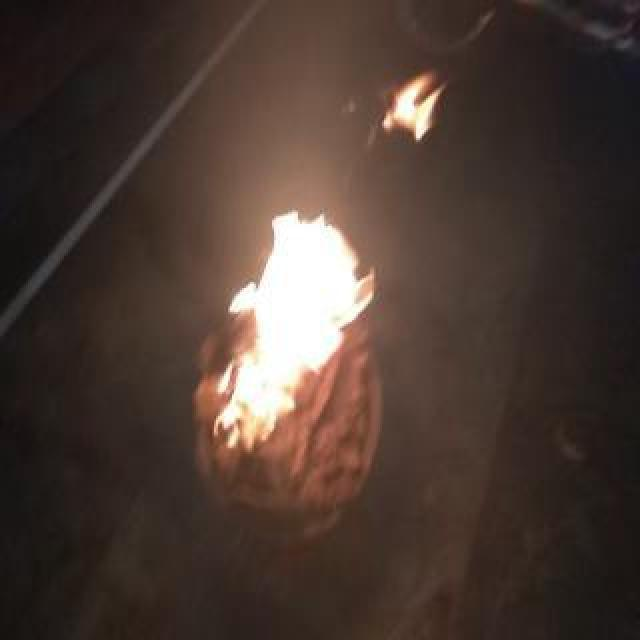fire: (216, 211, 373, 449), (383, 74, 444, 140)
